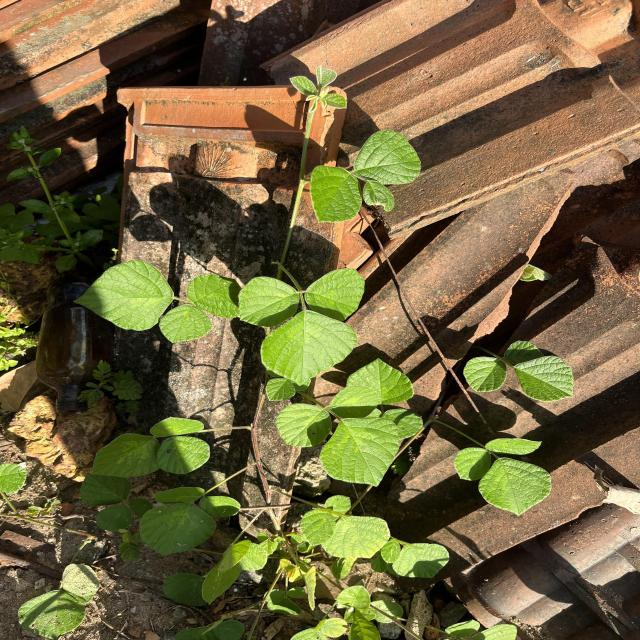Pseudarthria viscida: (236, 266, 366, 388), (72, 258, 241, 344), (274, 383, 401, 488), (452, 437, 552, 516), (90, 416, 212, 478), (138, 486, 242, 557), (462, 340, 575, 402)
